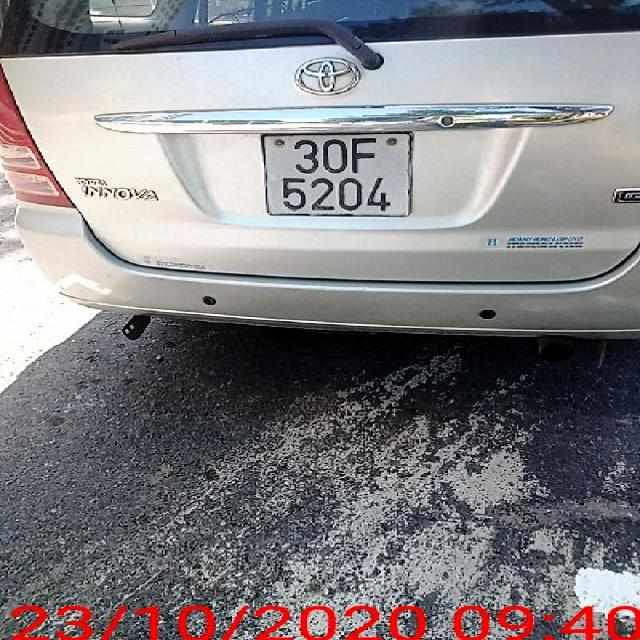license_plate: (265, 132, 413, 217)
